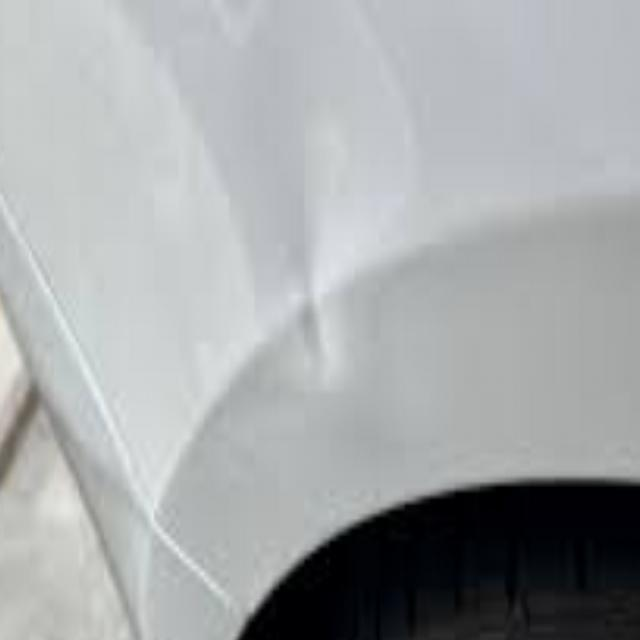dents: (269, 268, 367, 428)
